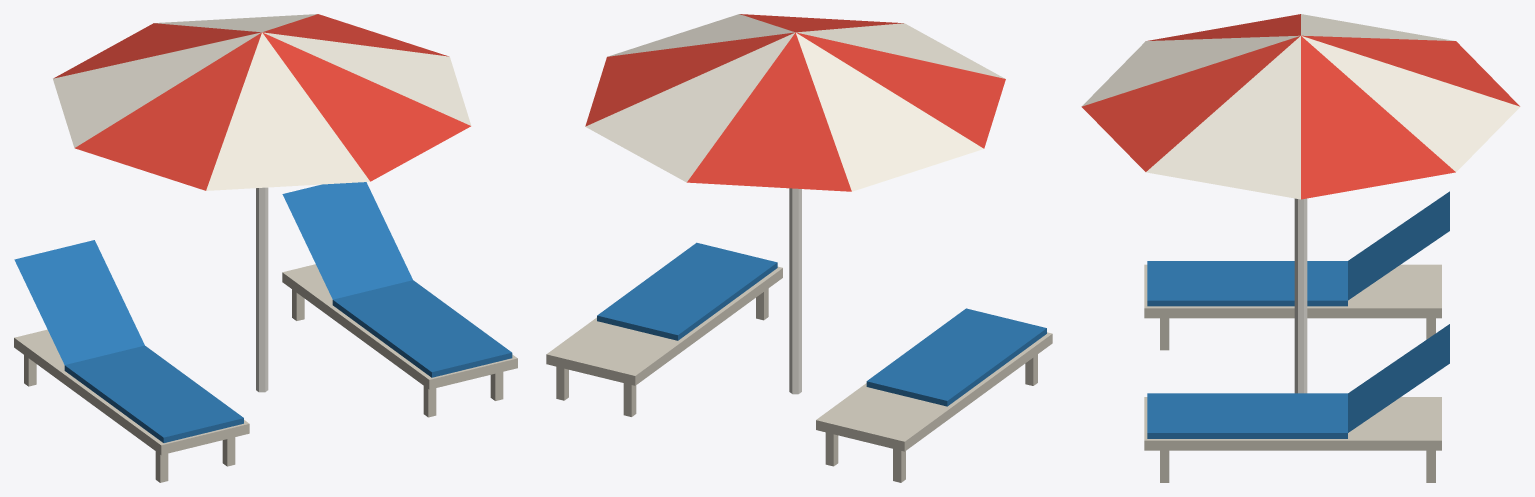
File: prop_bh_umbrella.glb
3 views of the same model, side by side, from view 1: azimuth 30°, elevation 25°; view 2: azimuth 150°, elevation 25°; view 3: azimuth 270°, elevation 25° (orthographic).
Visible parts, largest first — view 1: prop_bh_umbrella; view 2: prop_bh_umbrella; view 3: prop_bh_umbrella.
Part boxes in pixels (bbox=[...]): prop_bh_umbrella: bbox=[14, 14, 517, 482]; prop_bh_umbrella: bbox=[546, 14, 1052, 482]; prop_bh_umbrella: bbox=[1081, 14, 1520, 482].
Size of what is drawn, in the model's own units: 2.8 by 2.55 by 2.8.
